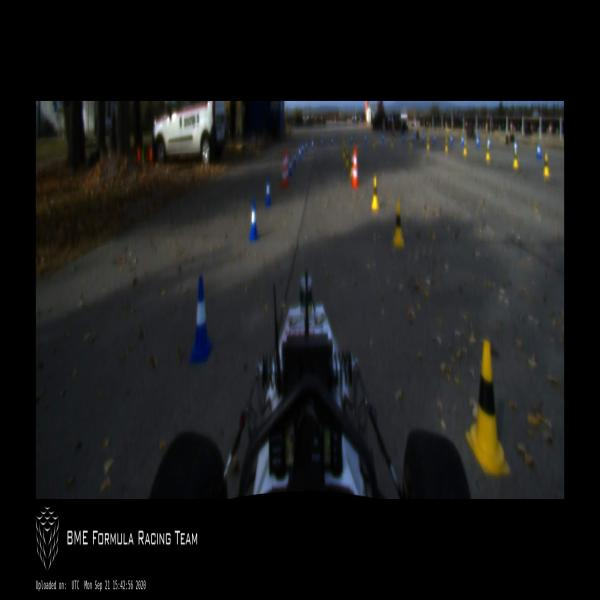blue_cone: (190, 274, 212, 360), (249, 199, 259, 240), (265, 180, 271, 206), (537, 143, 541, 158), (289, 156, 292, 174), (294, 151, 296, 166)
large_orange_cone: (352, 148, 358, 187), (282, 154, 286, 186)
yellow_cone: (466, 340, 510, 474), (393, 200, 404, 247), (372, 177, 379, 209), (544, 153, 549, 176), (514, 150, 518, 167), (486, 144, 490, 160), (346, 149, 348, 167), (464, 141, 466, 154)
